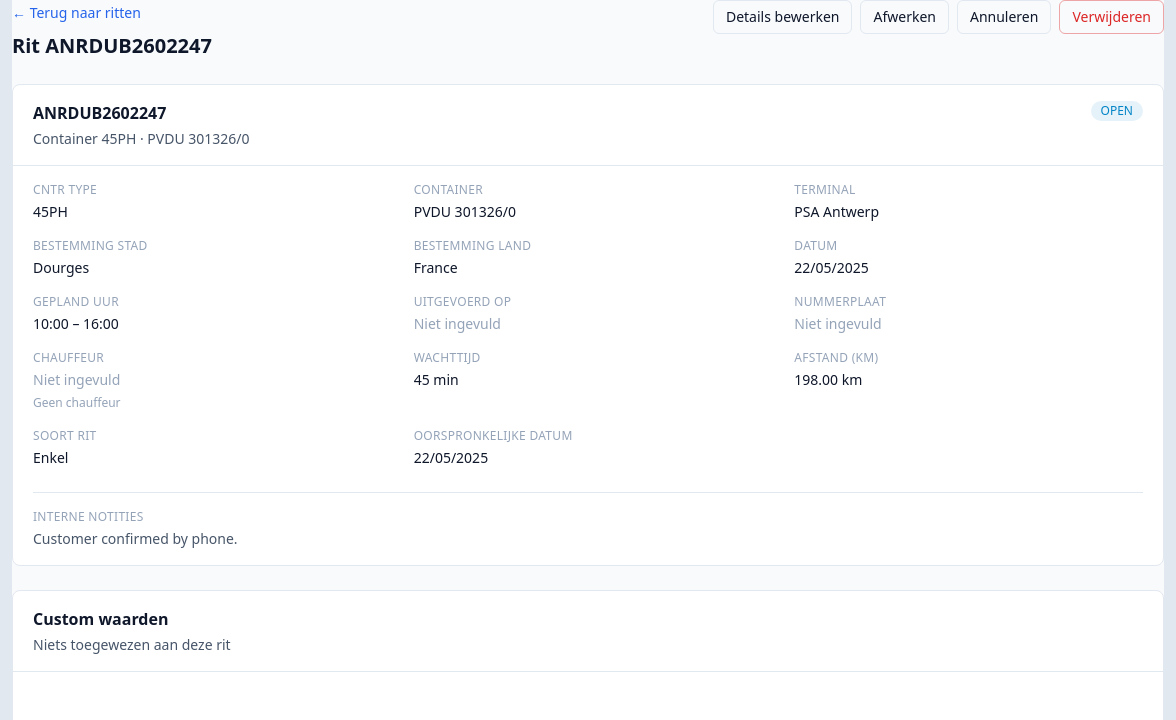
Test case: Trip management › closing a trip and its automatic pricing › shows CLOSED with a recoverable pricing state when pricing did not happen
What coordinates should you click on to do the following:
click the button "Afwerken"
I would click on:
 (905, 17)
Its box is [860, 0, 949, 34].
(page scrolled)
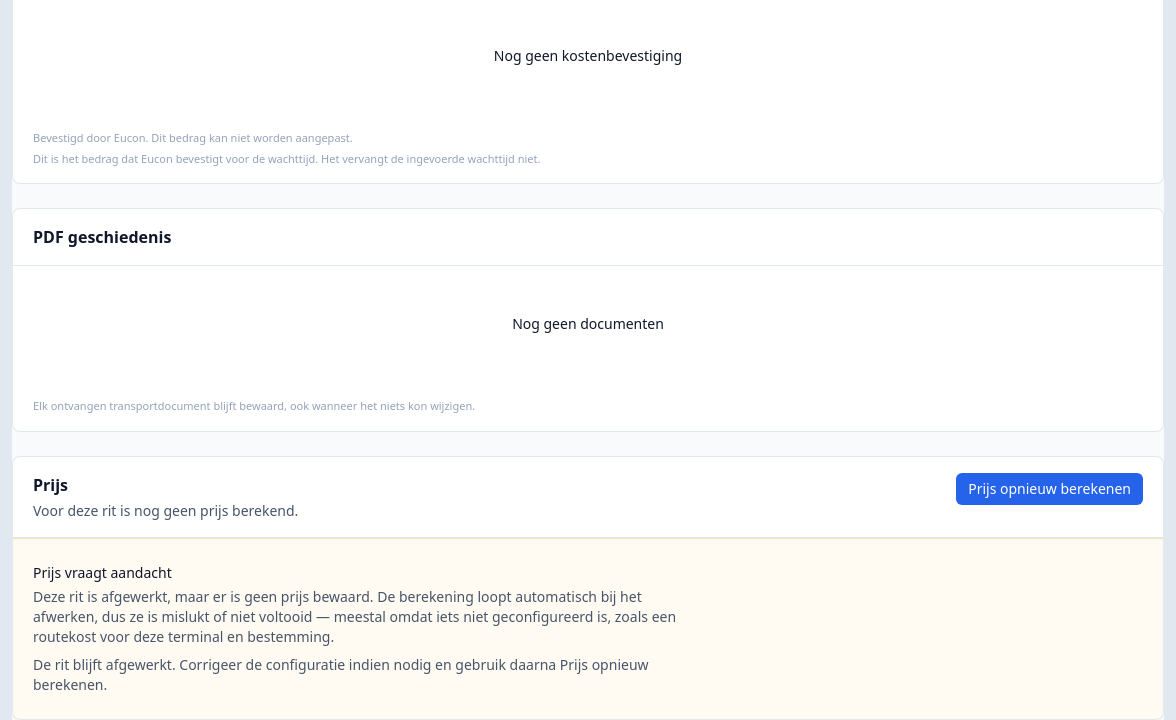
Check: the text "Prijs vraagt aandacht" is shown, box [33, 562, 172, 582]
Check: the button "Prijs opnieuw berekenen" is enabled, box [956, 472, 1143, 504]
